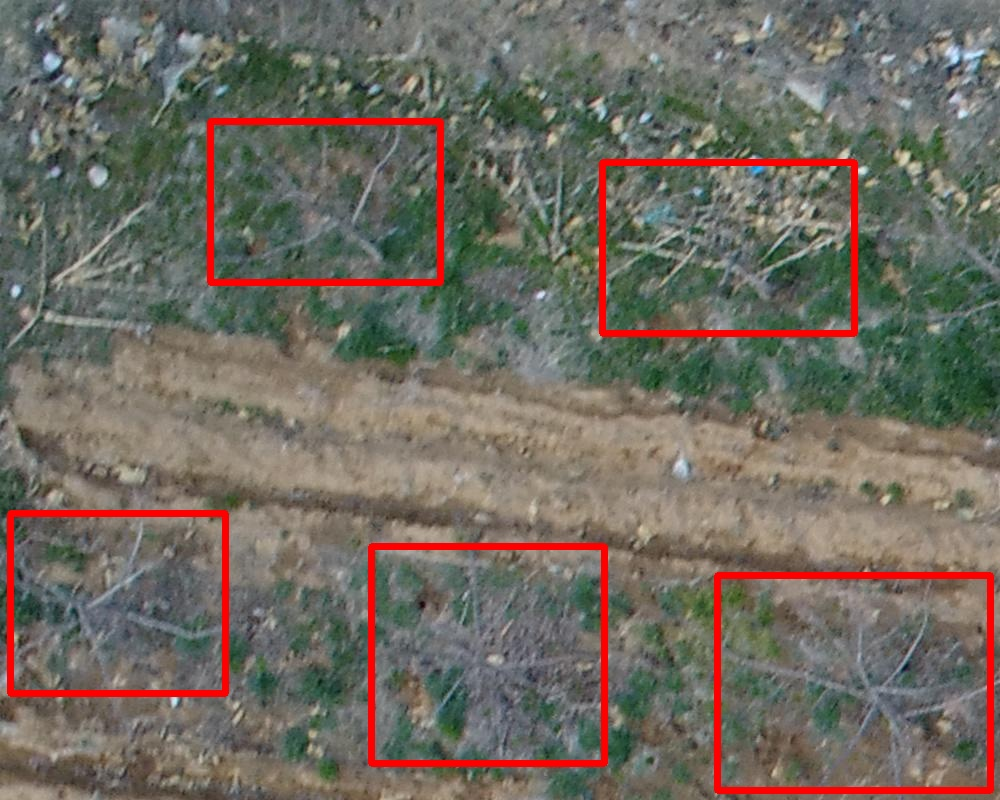apple: (717, 575, 990, 790), (371, 546, 604, 763), (602, 162, 854, 333), (10, 513, 225, 693), (210, 121, 440, 282)
